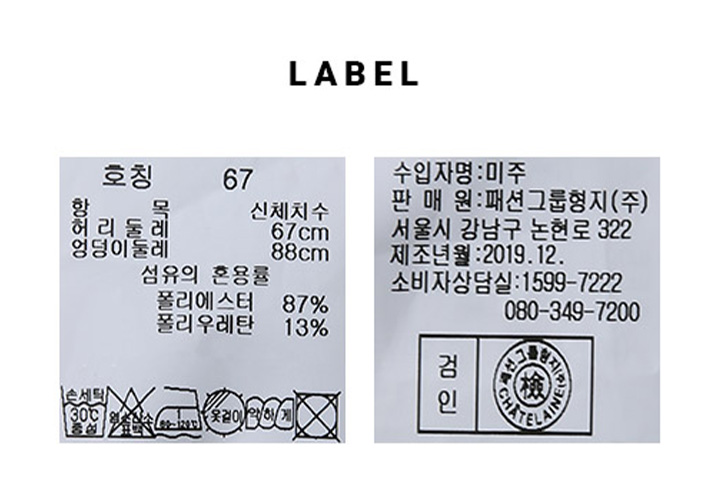KR_gentle_wring: (246, 393, 293, 435)
KR_hand_wash_30_neutral: (61, 380, 107, 440)
KR_hang_dry_in_shade: (202, 386, 246, 437)
KR_iron_low_temp_with_cloth: (155, 386, 204, 441)
KR_no_bleach: (108, 386, 156, 440)
KR_no_tumble_dry: (294, 385, 341, 442)
